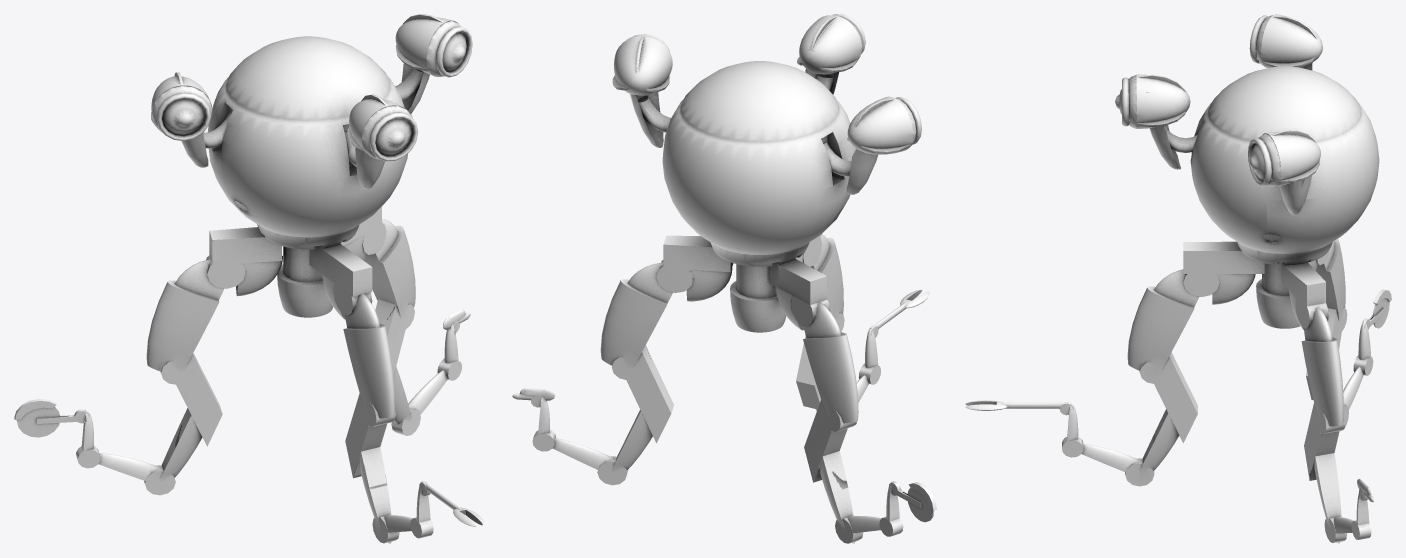
The model's file is mr_handy-altvr-01.obj.
The picture shows the model from 3 angles, left to right: view 1: azimuth 30°, elevation 25°; view 2: azimuth 150°, elevation 25°; view 3: azimuth 270°, elevation 25°; orthographic projection. The views are drawn at different scales.
Visible parts, largest first — view 1: mr_handy-altvr-01.obj; view 2: mr_handy-altvr-01.obj; view 3: mr_handy-altvr-01.obj.
Boxes of the visible parts, box(x1,y1,x2,y2) form: mr_handy-altvr-01.obj: box(14, 14, 483, 543); mr_handy-altvr-01.obj: box(512, 14, 936, 543); mr_handy-altvr-01.obj: box(965, 14, 1391, 543).
Bounding box in the file's own units: 2.04 × 1.9 × 1.8.
